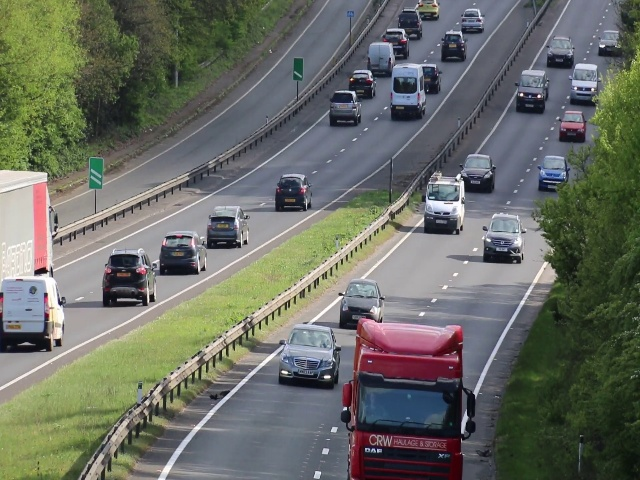car: (1, 275, 64, 352), (281, 326, 337, 390), (99, 250, 159, 306), (424, 177, 465, 234), (159, 232, 208, 274), (337, 280, 384, 321), (483, 214, 521, 264), (204, 205, 249, 247), (390, 66, 425, 119), (514, 69, 549, 115), (274, 172, 313, 212), (330, 92, 364, 126), (466, 152, 493, 192), (546, 34, 575, 67), (572, 63, 594, 104), (540, 153, 564, 190), (559, 110, 585, 144), (441, 31, 468, 60), (348, 69, 376, 92), (461, 8, 486, 33), (368, 43, 390, 69), (427, 62, 441, 94), (600, 30, 615, 59), (394, 31, 410, 58), (399, 7, 420, 25), (418, 1, 440, 17)
